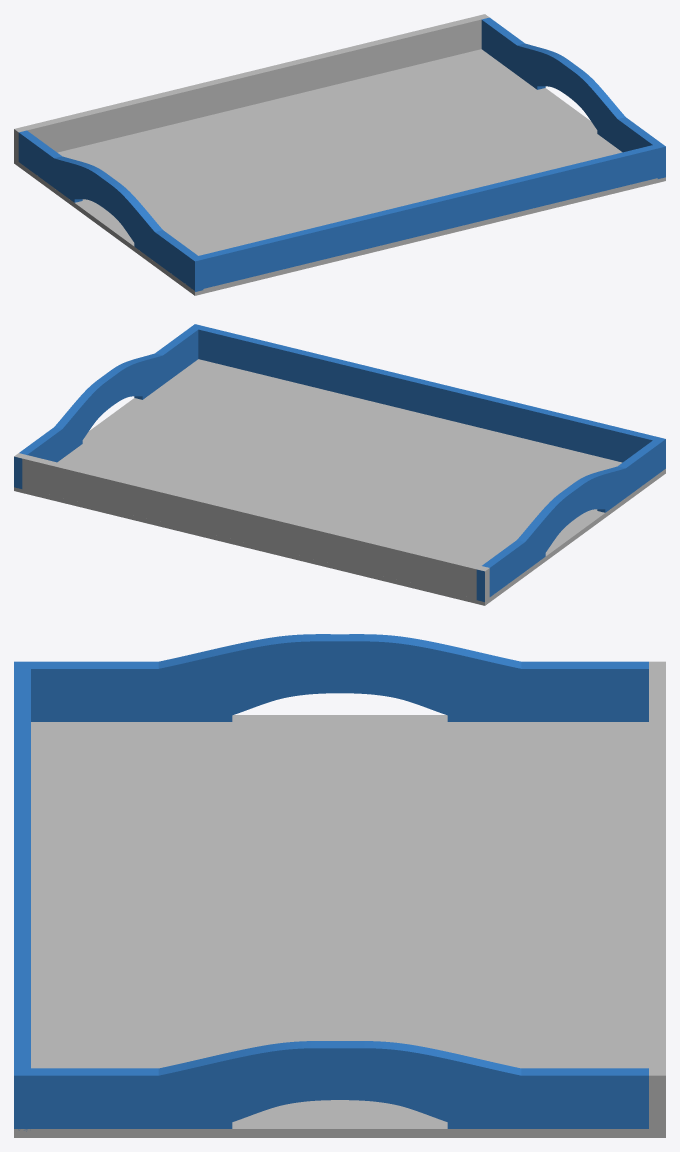
3 views of the same model, one above another, from view 1: azimuth 30°, elevation 25°; view 2: azimuth 150°, elevation 25°; view 3: azimuth 270°, elevation 25° (orthographic). The views are drawn at different scales.
Visible parts, largest first — view 1: floor, rail.001, rail, end.001, end; view 2: floor, rail, rail.001, end.001, end; view 3: floor, end, end.001, rail, rail.001.
Part boxes in pixels (x1,y1,x2,y2): floor: (14,49,665,295); rail.001: (190,143,665,290); rail: (14,14,489,161); end.001: (18,130,203,291); end: (481,17,665,178); floor: (14,359,665,605); rail: (14,453,489,601); rail.001: (190,324,665,471); end.001: (476,440,661,601); end: (14,327,198,488); floor: (14,715,665,1137); end: (31,1041,648,1128); end.001: (31,634,648,721); rail: (649,661,665,1131); rail.001: (14,661,30,1131).
Size of the model in its own units: 0.4 by 0.0404 by 0.2662.
